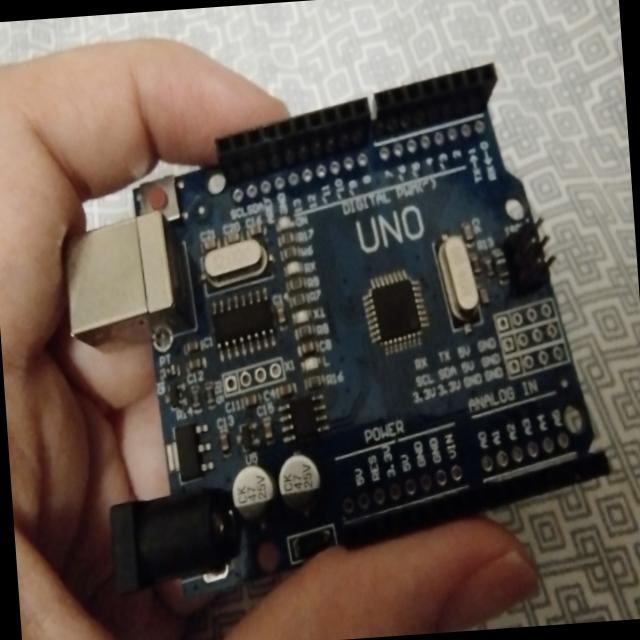arduino: (51, 51, 628, 594)
